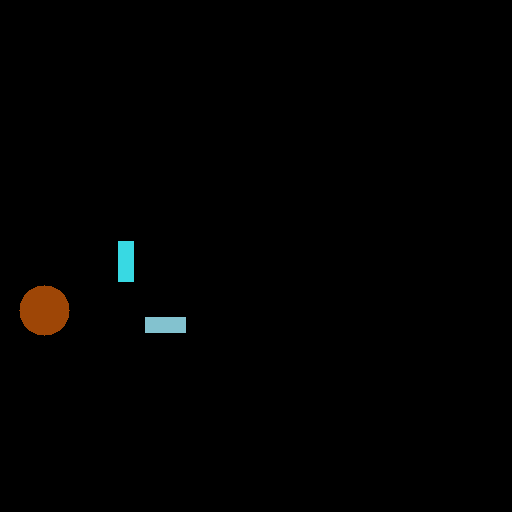circle: (18, 286, 73, 338)
side_rect: (144, 317, 189, 336)
up_rect: (116, 237, 136, 284)
